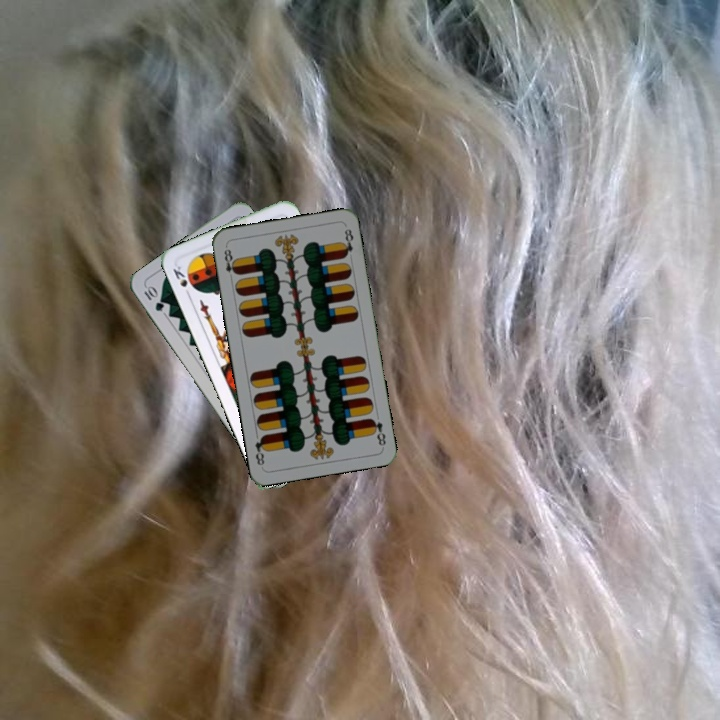E8: (220, 243, 240, 283), (367, 415, 388, 449)
G10: (140, 282, 167, 314)
SK: (169, 262, 193, 300)
